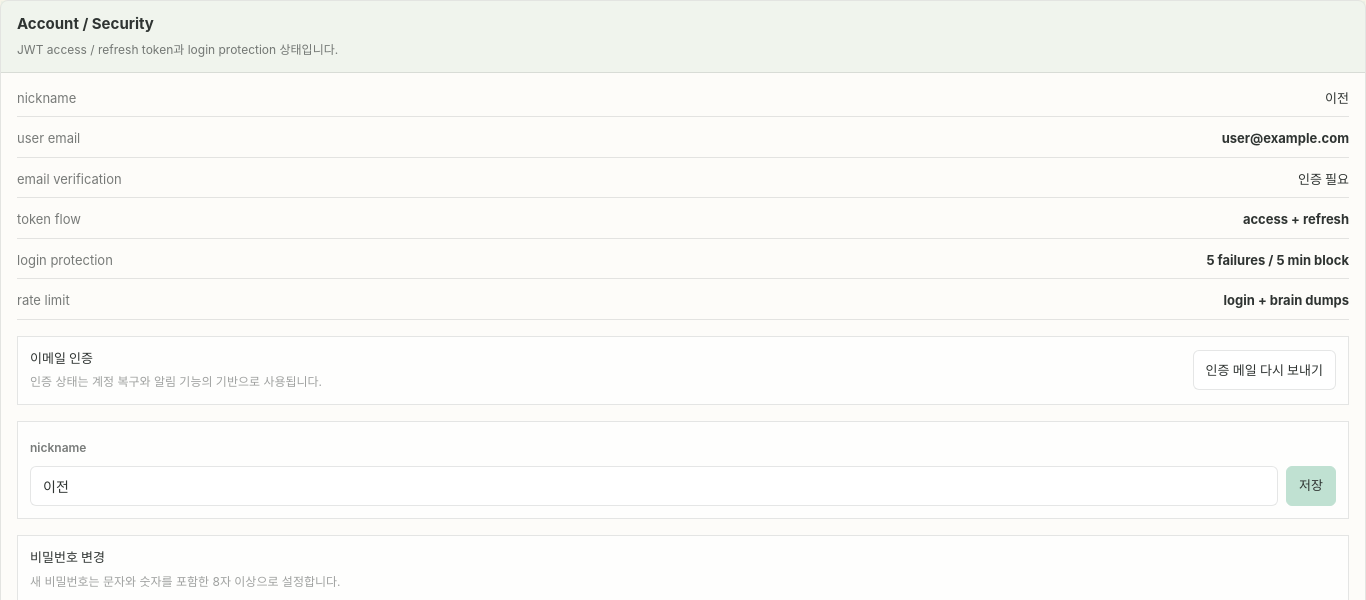
Test: AccountPanel › updates nickname in auth store
Replace the text in the field showing "이전" with "새닉네임": (654, 486) [30,466,1278,506]
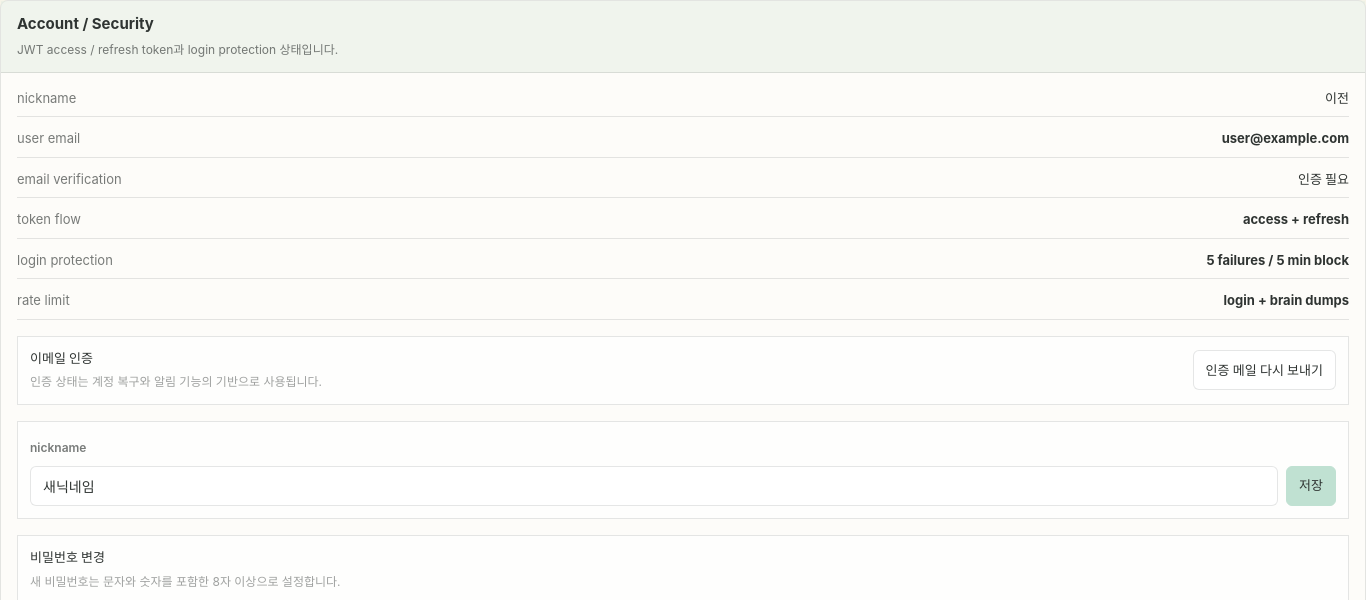
Click the button "저장": (1311, 486) [1286,466,1336,506]
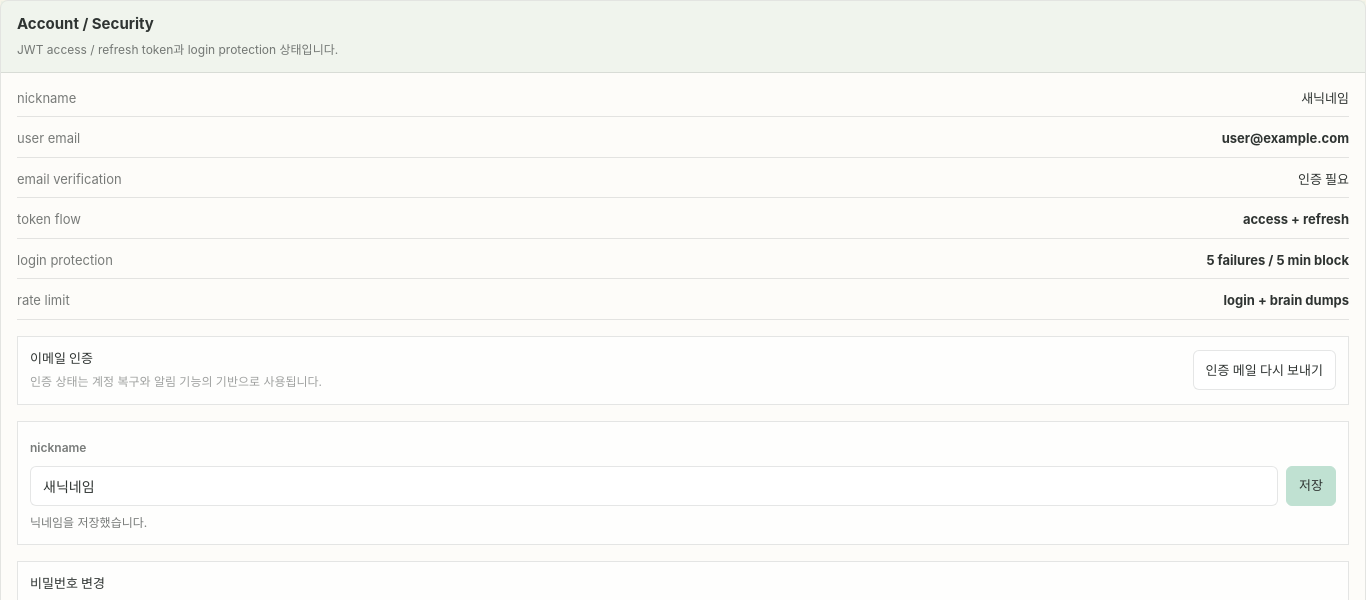
Expected: the text "새닉네임" is shown, [1301,88,1349,108]
